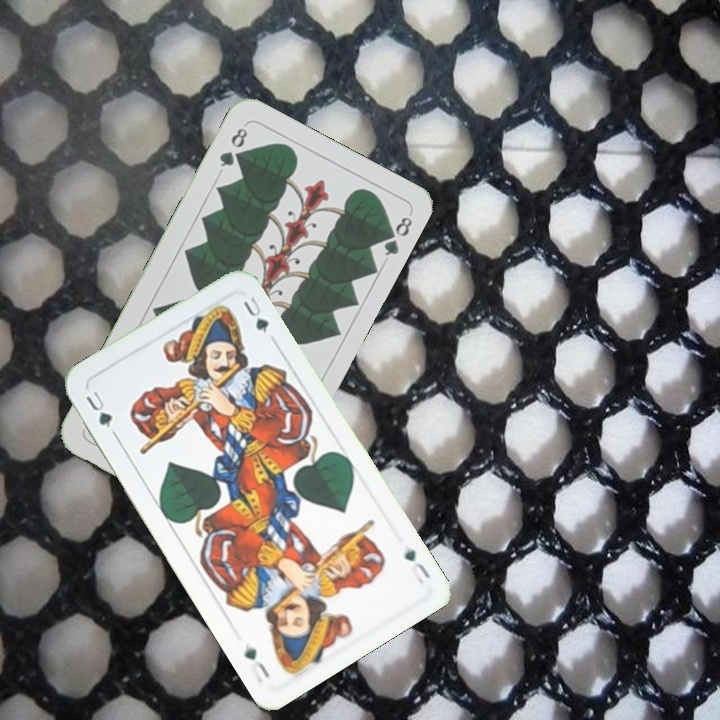G8: (215, 123, 250, 170)
GU: (399, 541, 433, 586), (81, 387, 115, 431)
